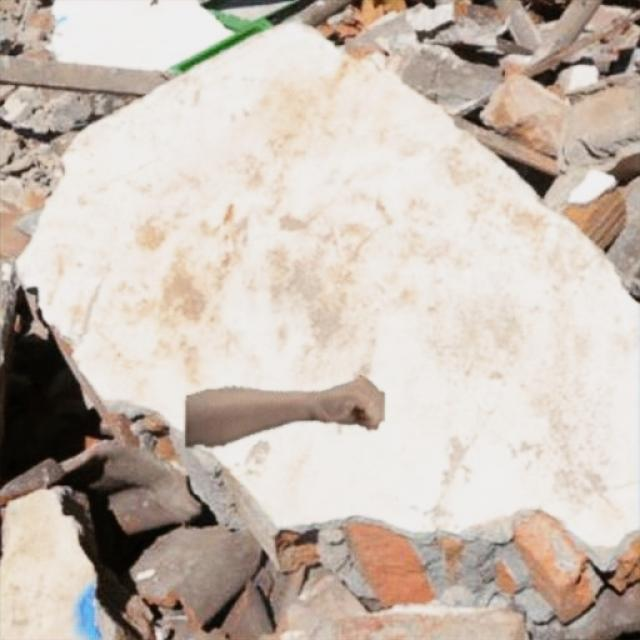Person in Rubble: (185, 374, 384, 448)
